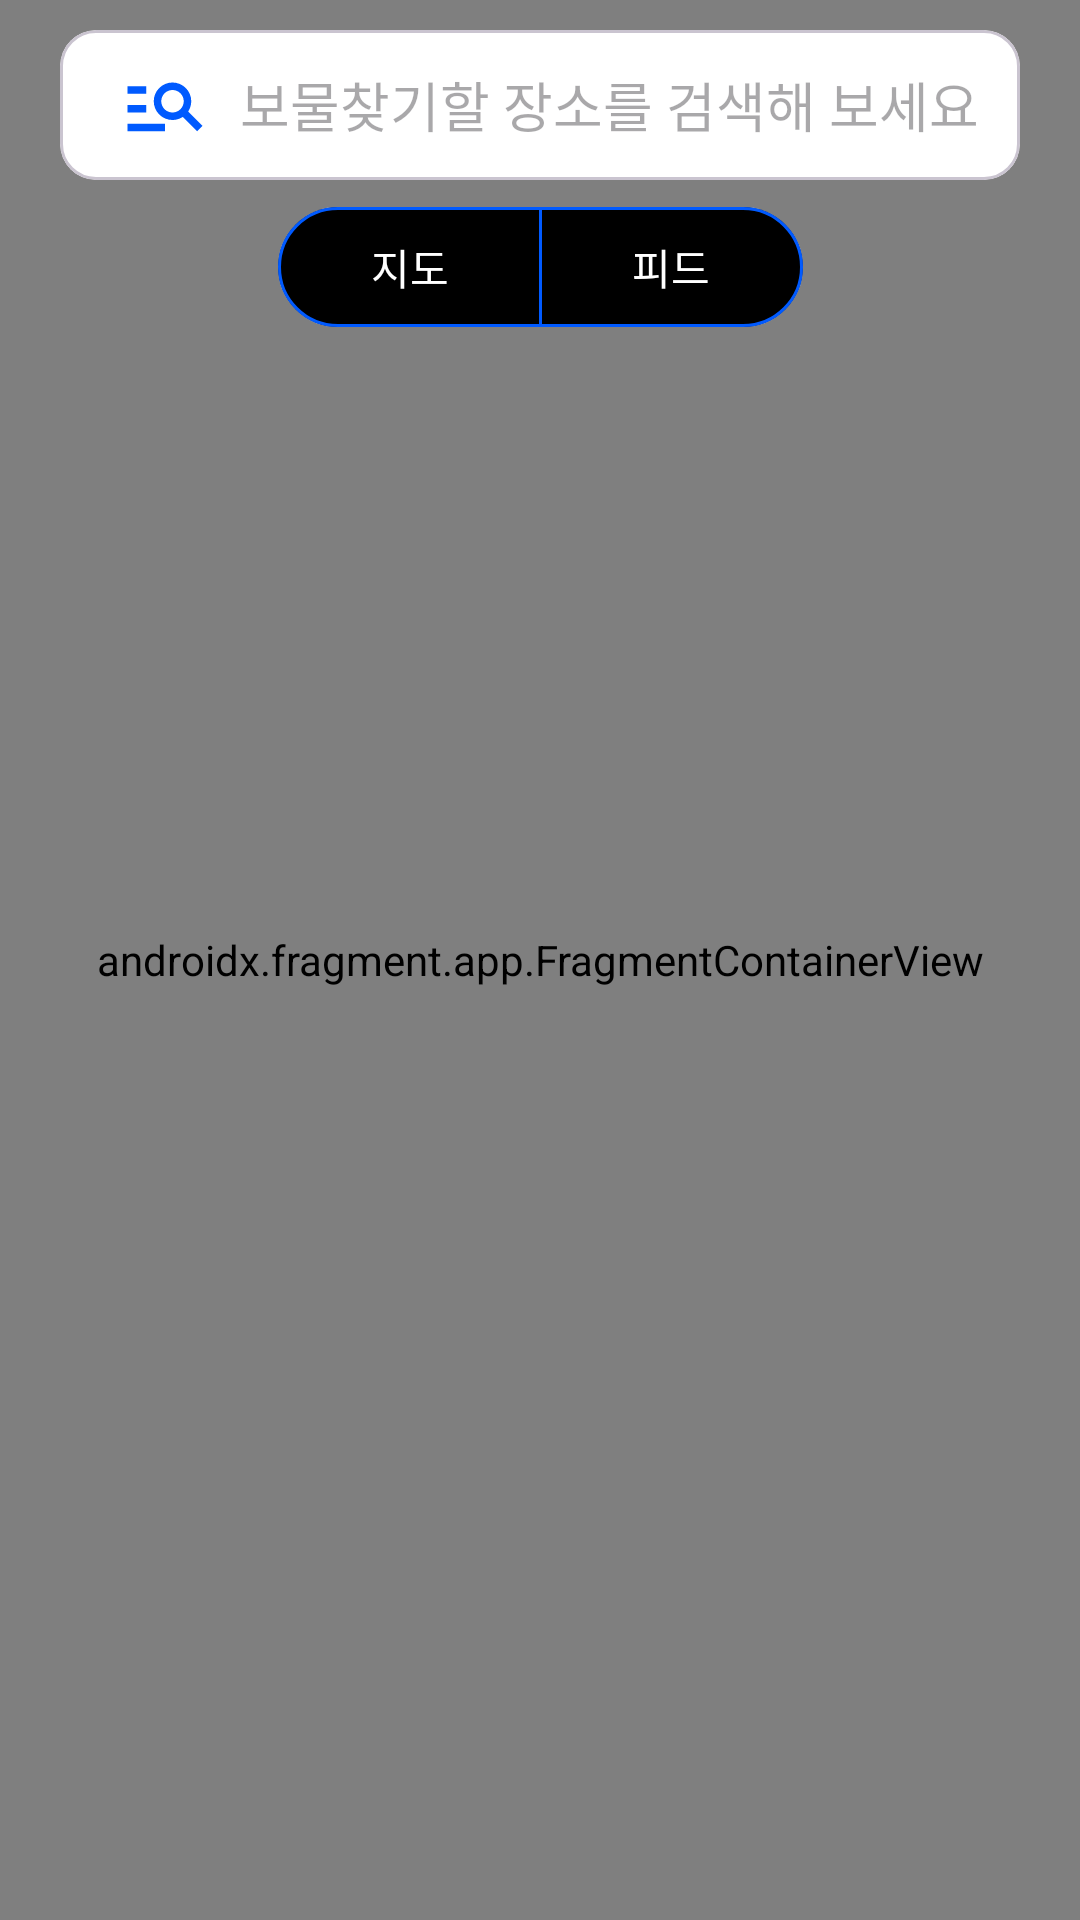

Locate icon controls on the screen. Image size 1080px x 1920px, boxes as region(x1, y1, x2, y2).
manage search: region(127, 82, 203, 132)
